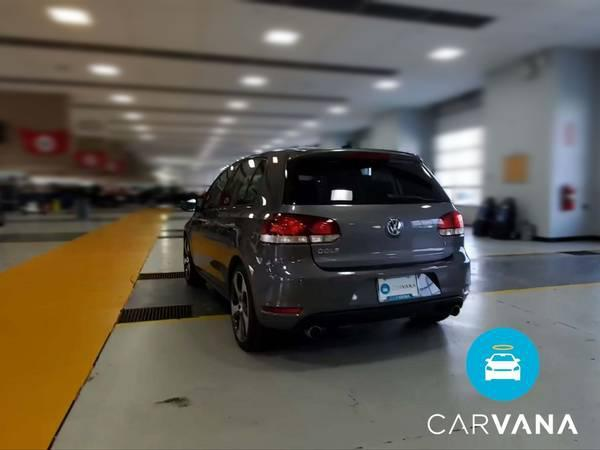Front_Left_Door: (242, 161, 282, 259), (187, 208, 224, 279)
Front_Left_Window: (194, 161, 242, 211)
Left_Taillight: (259, 209, 345, 243)
Rear_Bumper: (248, 232, 476, 326)
Rear_Left_Door: (211, 206, 248, 298)
Rear_Left_Window: (218, 158, 263, 210)
Rear_Windshield: (288, 151, 456, 206)
Right_Taillight: (438, 206, 467, 233)
Roof: (238, 147, 421, 205)
Tailgate: (280, 198, 458, 267)
Wheel: (232, 264, 261, 342), (181, 239, 194, 281)
